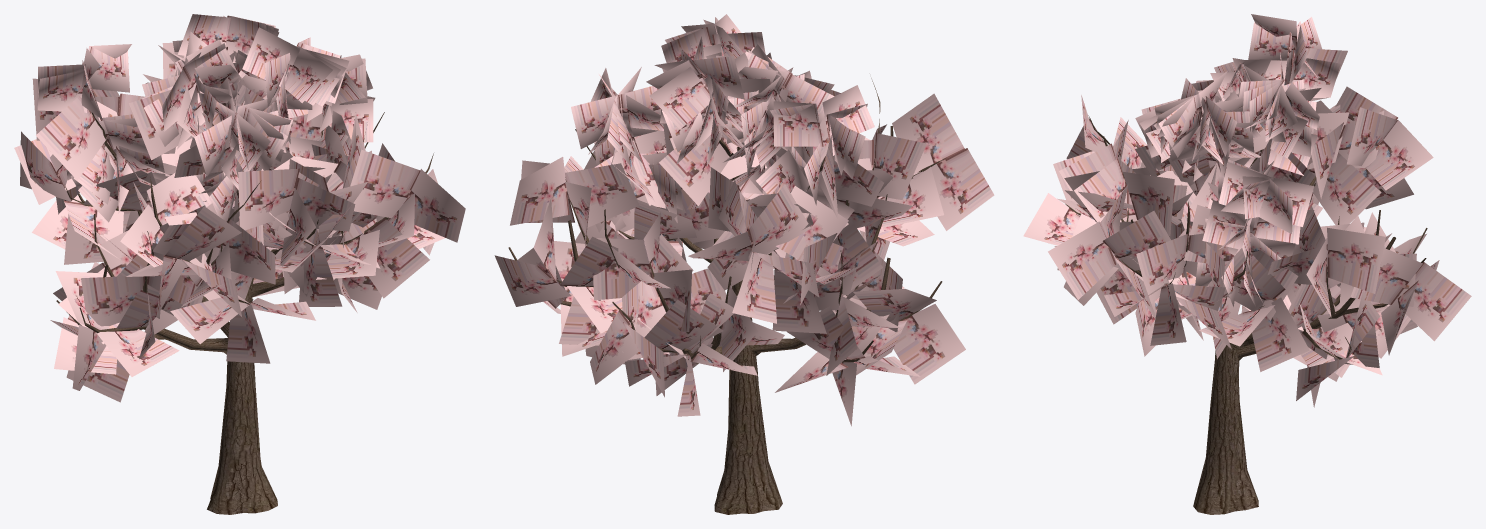
File: NAT_Sakura_lod.glb
The picture shows the model from 3 angles, left to right: view 1: azimuth 30°, elevation 25°; view 2: azimuth 150°, elevation 25°; view 3: azimuth 270°, elevation 25°; orthographic projection. The views are drawn at different scales.
Visible parts, largest first — view 1: Sakura_Sakura_Mat_0, Sakura_Bark001_2K_JPG_Mat_0; view 2: Sakura_Sakura_Mat_0, Sakura_Bark001_2K_JPG_Mat_0; view 3: Sakura_Sakura_Mat_0, Sakura_Bark001_2K_JPG_Mat_0.
Part boxes in pixels (x1,y1,x2,y2): Sakura_Sakura_Mat_0: (14, 14, 465, 402); Sakura_Bark001_2K_JPG_Mat_0: (56, 112, 433, 514); Sakura_Sakura_Mat_0: (494, 14, 994, 426); Sakura_Bark001_2K_JPG_Mat_0: (508, 78, 945, 514); Sakura_Sakura_Mat_0: (1023, 14, 1471, 407); Sakura_Bark001_2K_JPG_Mat_0: (1065, 115, 1427, 514).
Bounding box in the file's own units: 0.3534 × 0.4172 × 0.3833.
Materials: 2 (2 with a texture image).
